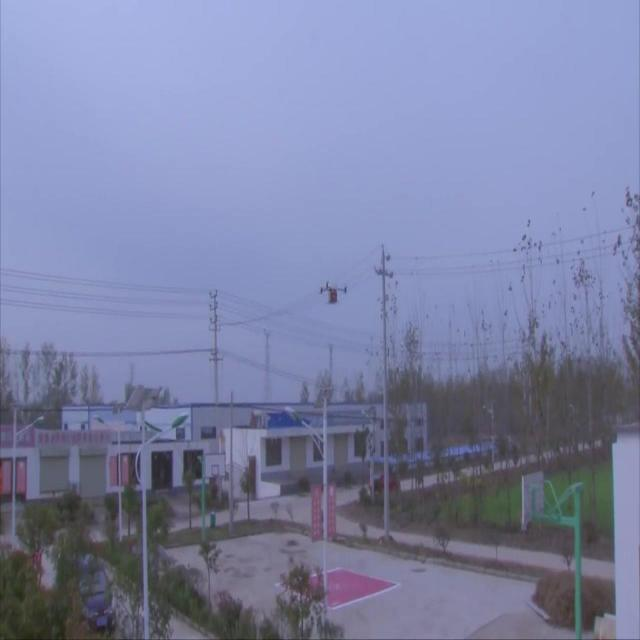UAV: (321, 280, 347, 305)
